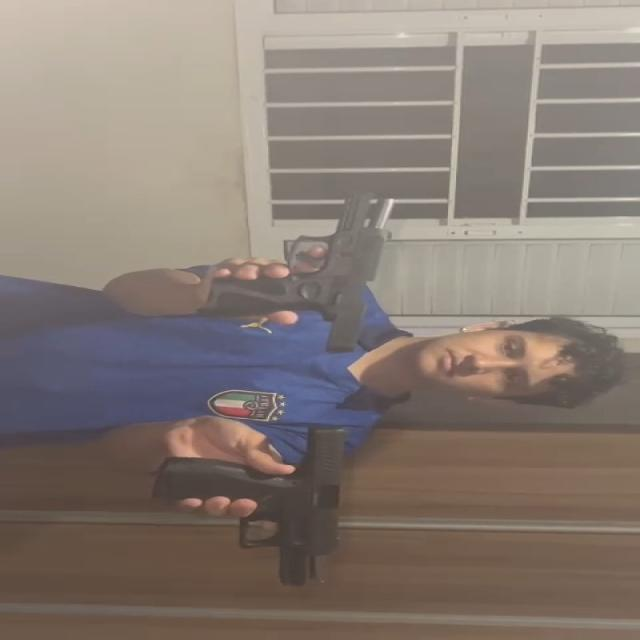gun: (200, 191, 395, 354), (152, 427, 352, 585)
